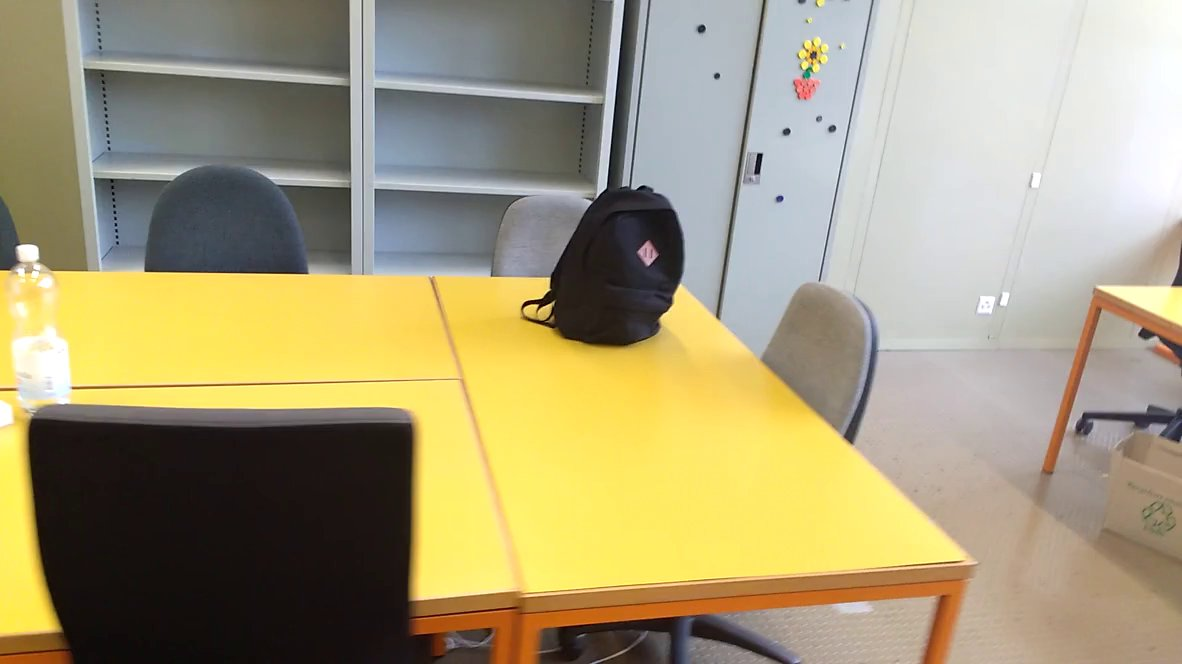bag: (519, 181, 690, 358)
box: (1092, 424, 1182, 572)
chair: (14, 385, 460, 664), (123, 144, 320, 303), (746, 273, 888, 480), (472, 181, 620, 301)
